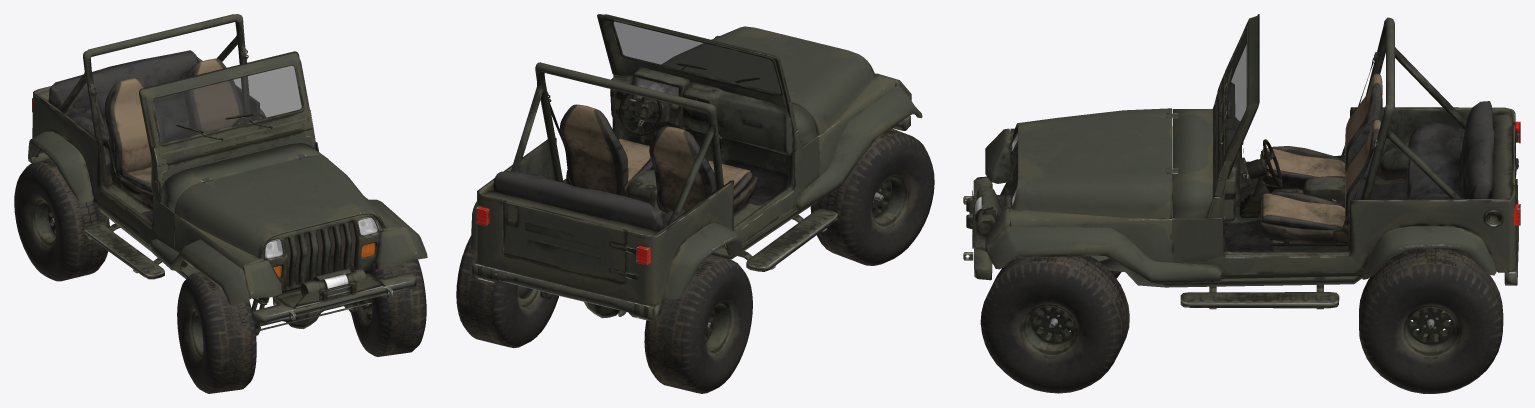
The picture shows the model from 3 angles, left to right: view 1: azimuth 30°, elevation 25°; view 2: azimuth 150°, elevation 25°; view 3: azimuth 270°, elevation 25°; orthographic projection. The views are drawn at different scales.
Visible parts, largest first — view 1: 2_low_Plane.050, 4_low_Plane.052, 6_low.001_Plane.006, 7_low.002_Plane.016, 1_low_Plane.077, 6_low.004_Plane.015, glass_Cube.026, 5_low_Plane.065, 2_low.001_Plane.002, 6_low.003_Plane.022, 6_low_Plane.061, 3_low_Plane.003 (+7 smaller); view 2: 1_low_Plane.077, 4_low_Plane.052, 6_low.001_Plane.006, 2_low_Plane.050, 6_low.004_Plane.015, 7_low.002_Plane.016, 2_low.001_Plane.002, glass_Cube.026, 5_low_Plane.065, 6_low_Plane.061, 3_low_Plane.003, 4_low.002_Plane.013 (+3 smaller); view 3: 1_low_Plane.077, 4_low_Plane.052, 6_low.001_Plane.006, 6_low.003_Plane.022, 2_low_Plane.050, 7_low.002_Plane.016, 2_low.001_Plane.002, 5_low_Plane.065, 3_low.001_Plane.012, 4_low.002_Plane.013, 3_low_Plane.003, 1_low.001_Plane.011 (+3 smaller).
Boxes of the visible parts, x1,y1,x2,y2 form: 2_low_Plane.050: [59, 14, 382, 292]; 4_low_Plane.052: [39, 126, 385, 296]; 6_low.001_Plane.006: [14, 158, 359, 335]; 7_low.002_Plane.016: [89, 47, 248, 210]; 1_low_Plane.077: [32, 57, 315, 249]; 6_low.004_Plane.015: [177, 272, 256, 393]; glass_Cube.026: [153, 65, 301, 142]; 5_low_Plane.065: [48, 50, 356, 301]; 2_low.001_Plane.002: [28, 109, 427, 305]; 6_low.003_Plane.022: [351, 258, 426, 356]; 6_low_Plane.061: [28, 151, 416, 324]; 3_low_Plane.003: [151, 63, 384, 308]; 1_low_Plane.077: [476, 75, 819, 304]; 4_low_Plane.052: [610, 26, 875, 248]; 6_low.001_Plane.006: [456, 235, 752, 393]; 2_low_Plane.050: [503, 14, 818, 283]; 6_low.004_Plane.015: [810, 128, 934, 265]; 7_low.002_Plane.016: [547, 92, 757, 213]; 2_low.001_Plane.002: [471, 86, 922, 299]; glass_Cube.026: [613, 21, 780, 107]; 5_low_Plane.065: [493, 171, 816, 259]; 6_low_Plane.061: [472, 115, 910, 320]; 3_low_Plane.003: [507, 19, 782, 222]; 4_low.002_Plane.013: [746, 209, 837, 271]; 1_low_Plane.077: [1172, 96, 1515, 278]; 4_low_Plane.052: [975, 82, 1466, 262]; 6_low.001_Plane.006: [1359, 248, 1503, 393]; 6_low.003_Plane.022: [980, 256, 1129, 393]; 2_low_Plane.050: [1011, 14, 1514, 247]; 7_low.002_Plane.016: [1260, 52, 1382, 247]; 2_low.001_Plane.002: [987, 173, 1496, 284]; 5_low_Plane.065: [966, 101, 1494, 287]; 3_low.001_Plane.012: [1010, 128, 1171, 262]; 4_low.002_Plane.013: [1180, 292, 1339, 308]; 3_low_Plane.003: [972, 25, 1516, 248]; 1_low.001_Plane.011: [985, 128, 1012, 251].
Size of the model in its own units: 237 by 236 by 426.
Materials: 2 (2 with a texture image).
